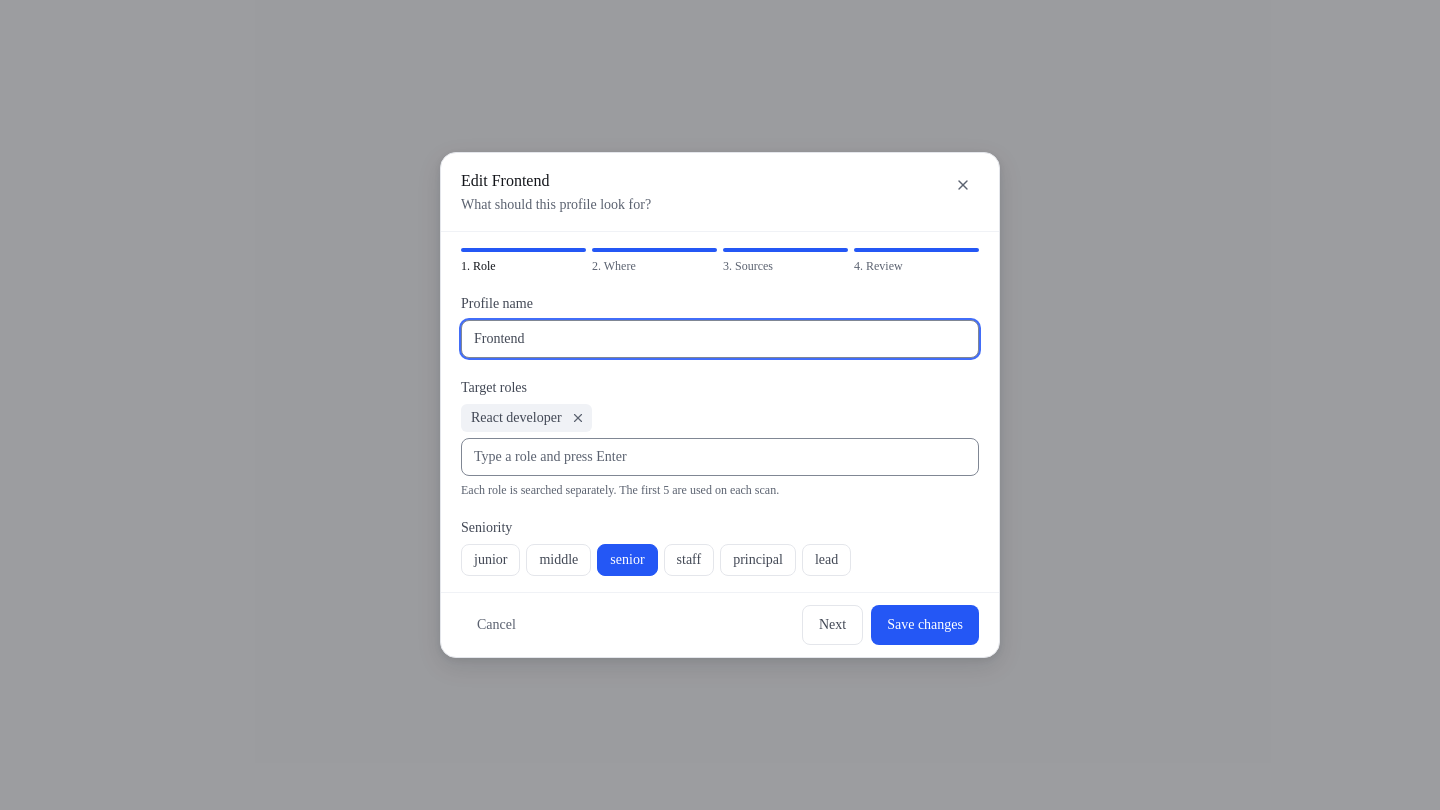
Scenario: ProfileFormDialog edit › rejects a cleared name on Save changes without sending anything
Step 1. Clear the field labelled "Profile name" → (720, 339), box [461,320,979,358]
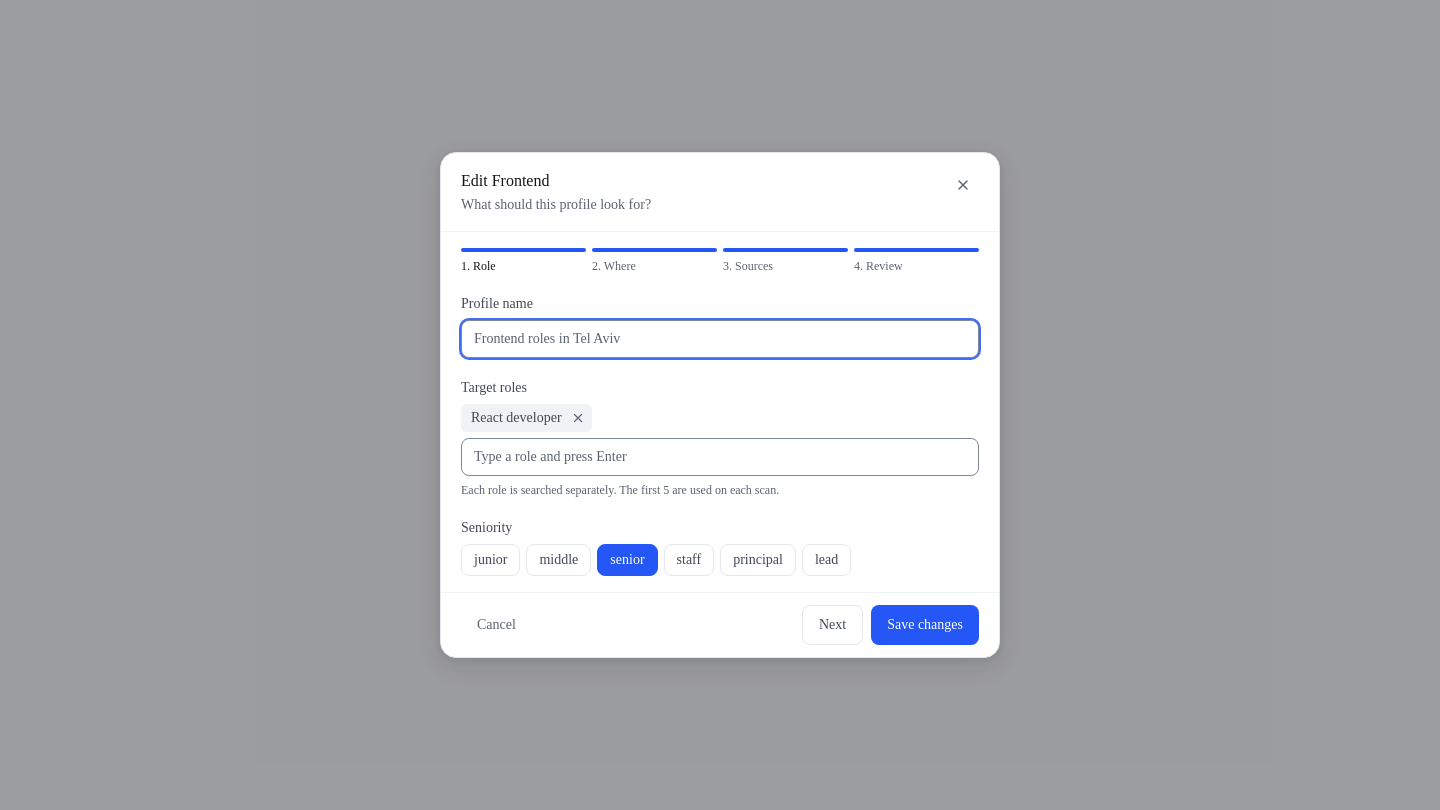
Step 2. Click the button "Save changes" → (925, 625), box [871,605,979,645]
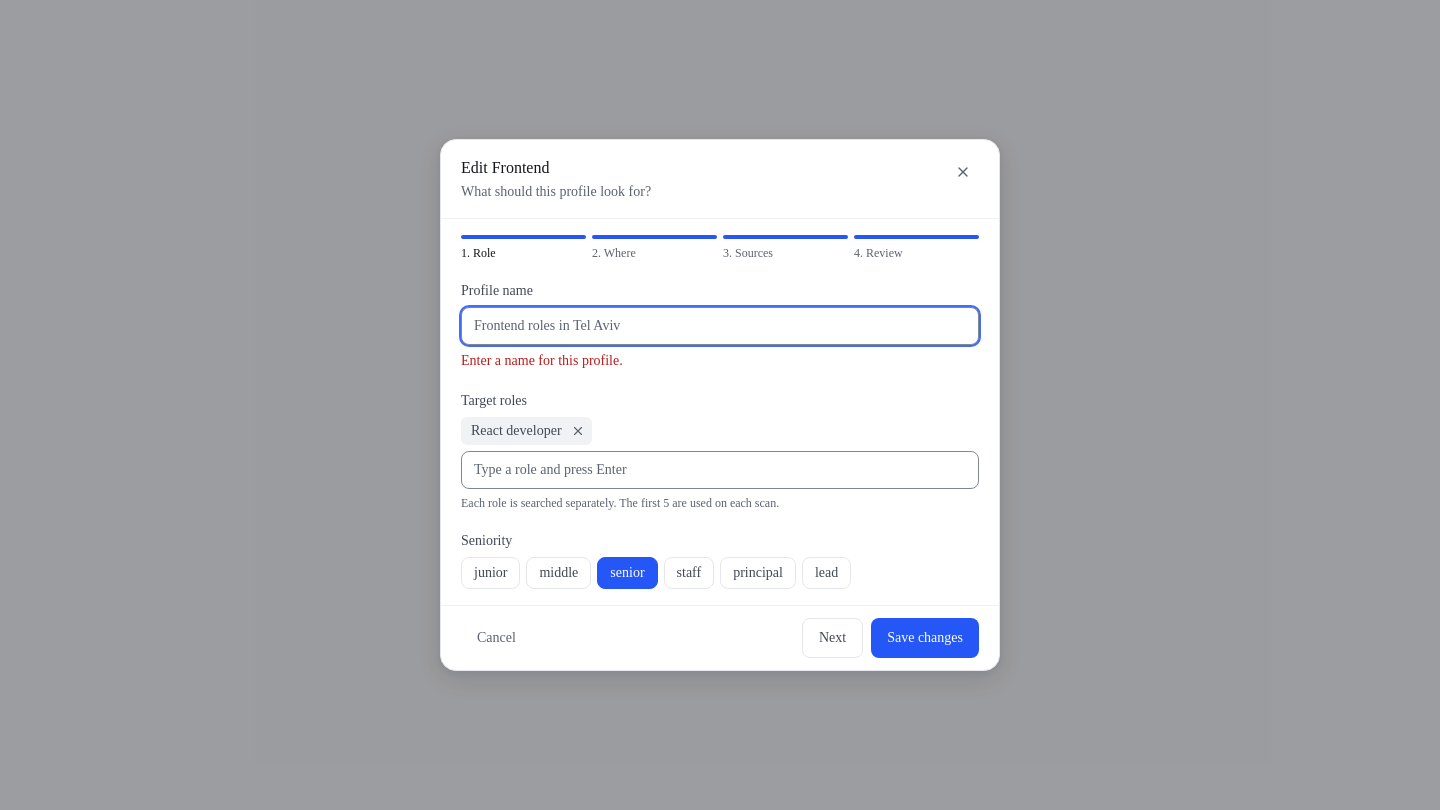
Expected: the message reads "Enter a name for this profile.", [461,353,623,368]
